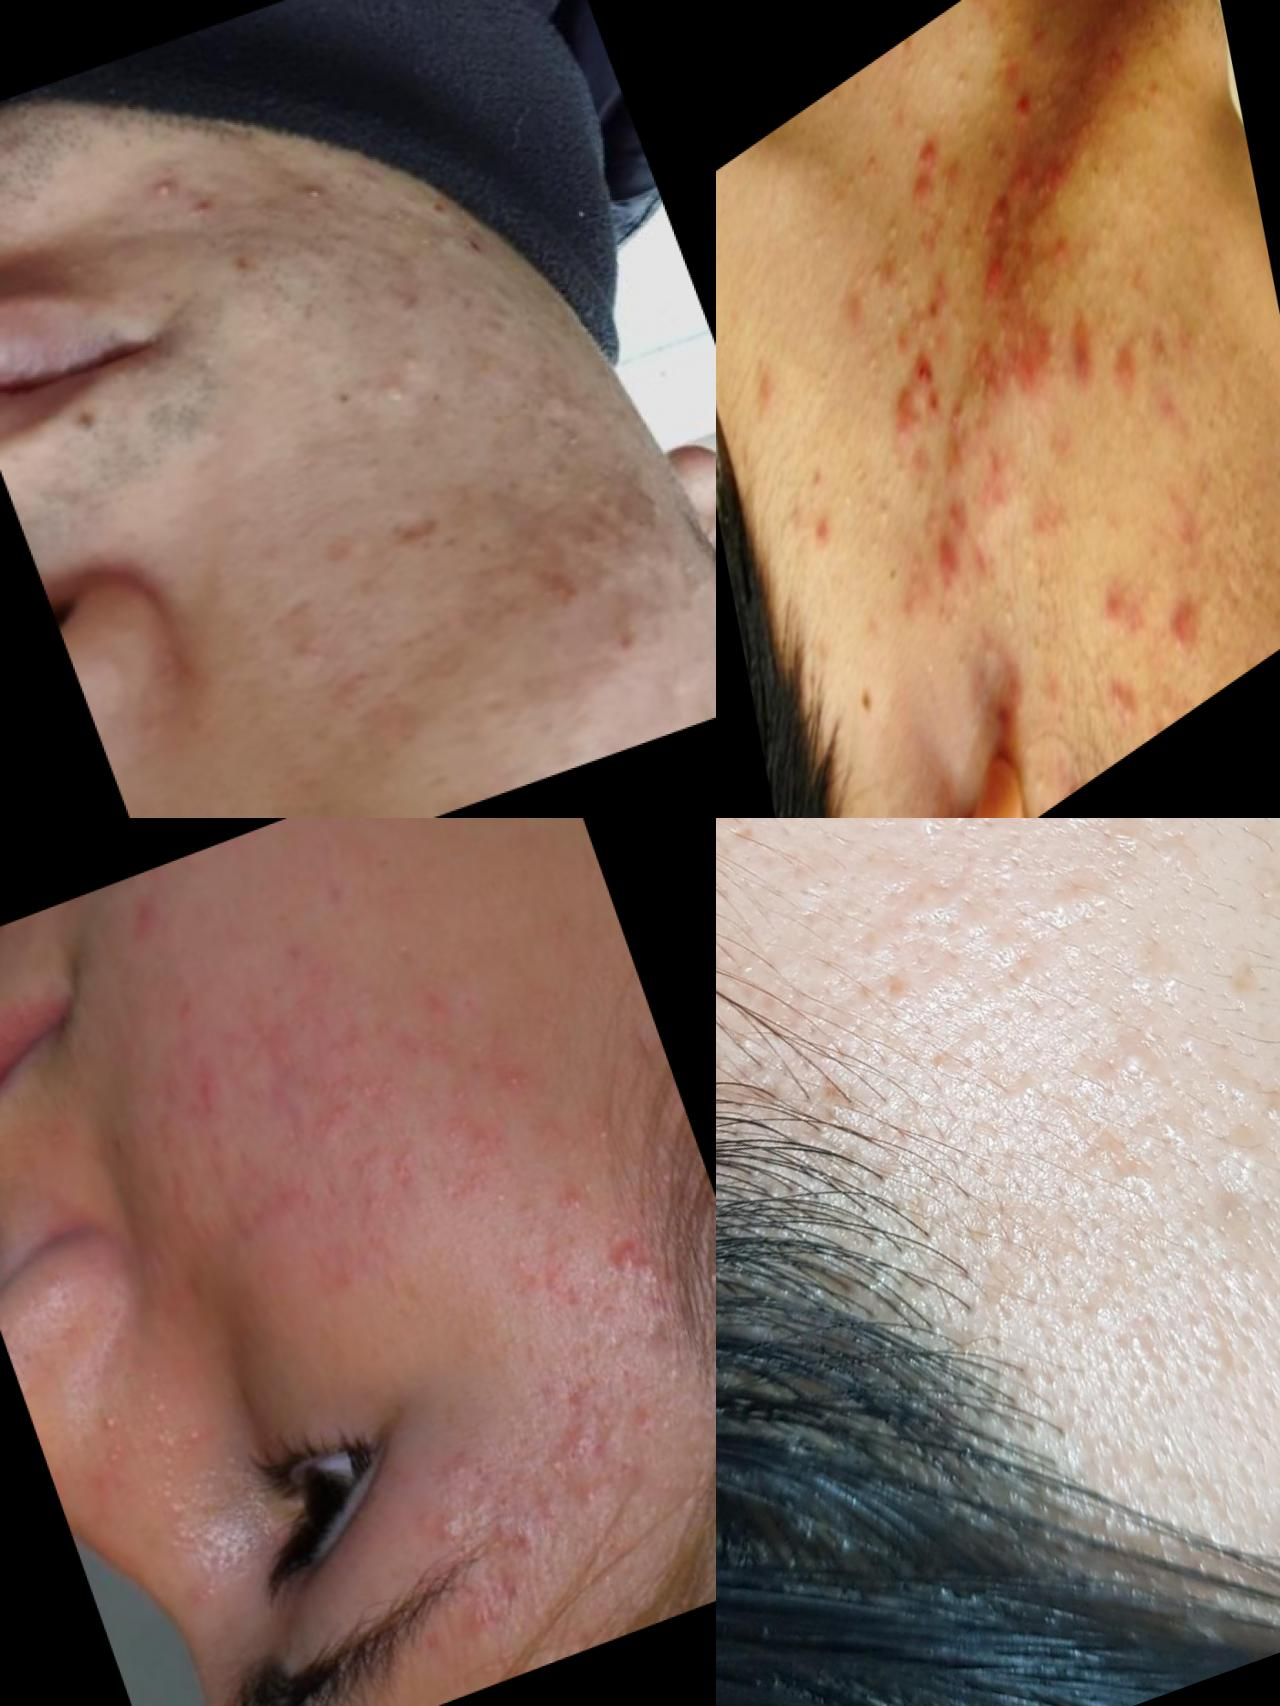acne_scars: (354, 471, 463, 579)
flat_wart: (1068, 925, 1280, 1235), (839, 819, 1076, 1032), (1051, 819, 1242, 925)
papular: (885, 97, 947, 220), (589, 1219, 660, 1293), (407, 1495, 485, 1562), (116, 875, 179, 954), (1090, 546, 1146, 636), (975, 222, 1026, 316), (1059, 307, 1104, 401), (1158, 579, 1203, 659), (910, 327, 947, 422), (928, 532, 968, 610), (999, 74, 1041, 148), (986, 682, 1027, 753), (1004, 136, 1042, 210), (1107, 340, 1137, 406), (887, 387, 920, 446)
purulent: (102, 132, 194, 229)
whitehead: (346, 315, 452, 426), (134, 1370, 206, 1463), (610, 526, 674, 590), (74, 1395, 137, 1457), (571, 1092, 625, 1162), (523, 1432, 584, 1494), (561, 472, 625, 528), (865, 461, 905, 536), (1113, 664, 1147, 752), (333, 1010, 383, 1065), (795, 207, 834, 276), (994, 571, 1027, 649), (1207, 430, 1242, 501), (497, 1046, 536, 1106), (1027, 745, 1064, 809), (1084, 196, 1119, 259), (873, 198, 908, 255), (972, 622, 1007, 680), (834, 454, 861, 526), (948, 631, 979, 690), (943, 286, 973, 341), (856, 339, 887, 393), (877, 288, 908, 341), (938, 177, 969, 229), (1034, 583, 1062, 635), (947, 52, 976, 99)
